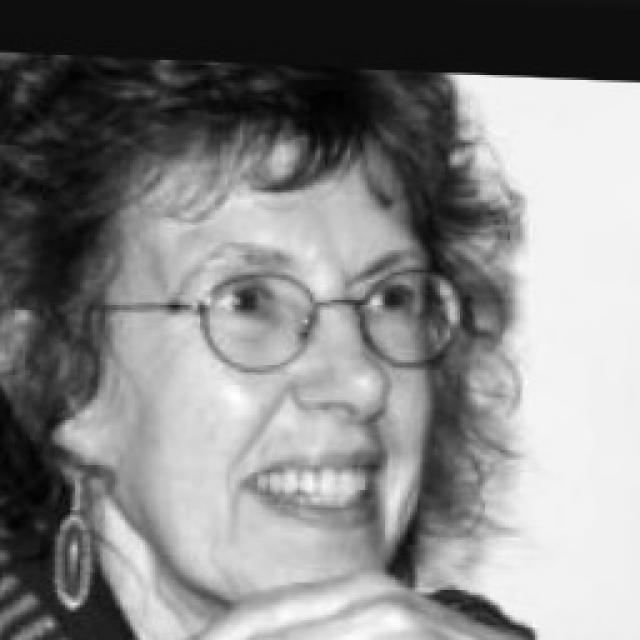glasses: (95, 263, 482, 383)
